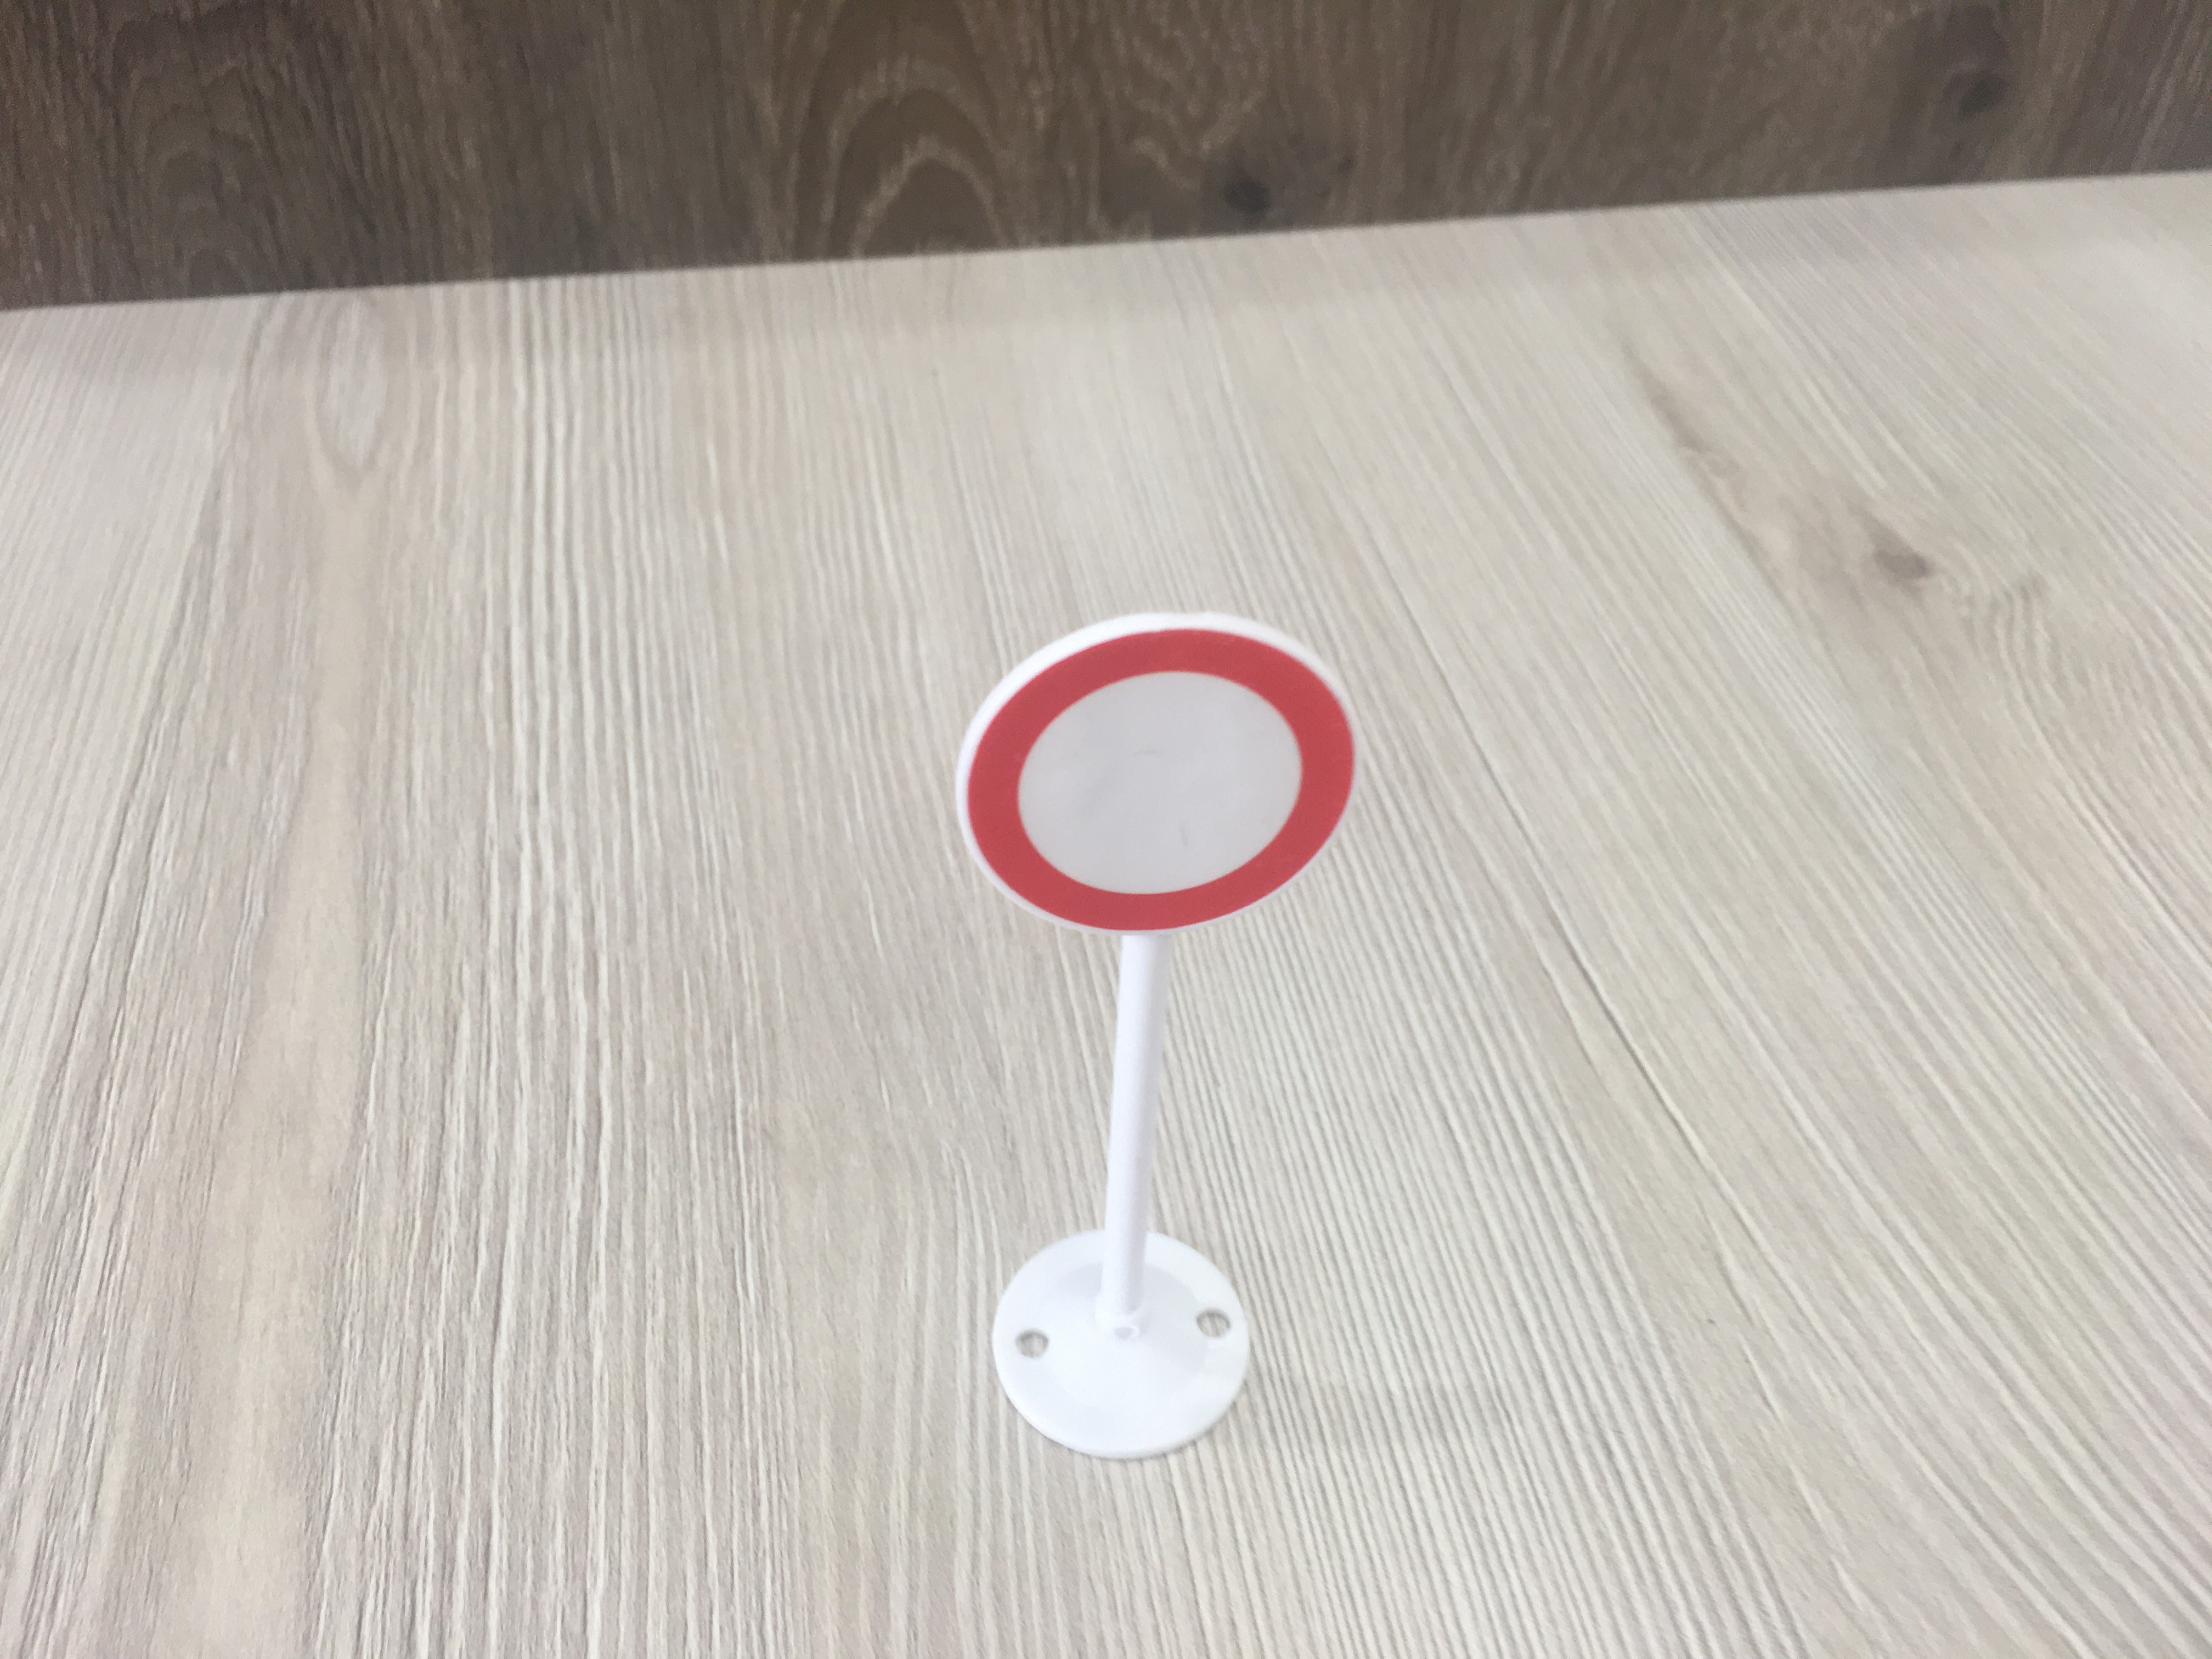noDrive: (958, 615, 1360, 927)
